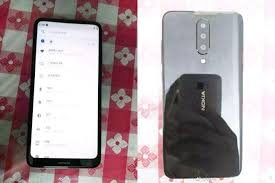nokia: (159, 8, 246, 178), (29, 17, 104, 168)
